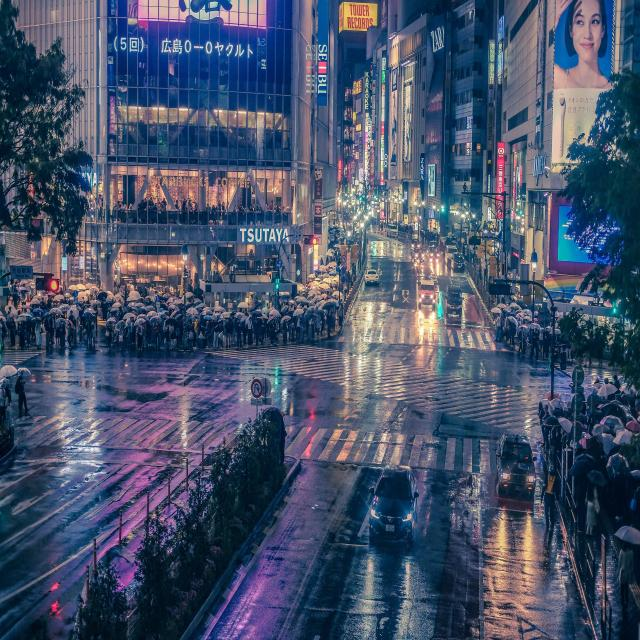body: (541, 375, 640, 560), (550, 0, 618, 177), (98, 281, 210, 350), (498, 308, 604, 368), (210, 298, 344, 333), (26, 288, 94, 344), (291, 265, 357, 298), (318, 222, 364, 266), (488, 269, 527, 308), (538, 463, 560, 532), (616, 540, 634, 608), (231, 199, 294, 214), (585, 481, 600, 538), (14, 369, 30, 414), (5, 280, 27, 310), (418, 222, 442, 249), (86, 190, 104, 222), (383, 218, 415, 236), (444, 230, 465, 254), (137, 197, 165, 213), (537, 401, 546, 447), (468, 247, 486, 270), (0, 380, 8, 429), (542, 404, 550, 453), (530, 328, 540, 360), (0, 379, 7, 424), (106, 196, 117, 223), (23, 316, 32, 347), (153, 317, 161, 351), (212, 316, 220, 350), (542, 327, 550, 359), (201, 320, 210, 348), (18, 320, 26, 351), (190, 318, 198, 349), (28, 310, 36, 340), (34, 319, 42, 349), (105, 320, 113, 350), (224, 318, 232, 348), (84, 316, 91, 349), (38, 297, 46, 325), (127, 316, 134, 348), (186, 315, 193, 347), (509, 321, 517, 349), (49, 313, 56, 344), (235, 318, 242, 349), (9, 317, 16, 347), (253, 316, 260, 346), (59, 320, 66, 349), (92, 303, 99, 332), (118, 322, 125, 351), (169, 321, 176, 350), (295, 314, 302, 343), (326, 309, 333, 338), (494, 313, 501, 342), (2, 389, 12, 409), (218, 320, 225, 348), (269, 318, 276, 346), (20, 290, 28, 314), (247, 316, 253, 347), (163, 325, 170, 351), (337, 302, 344, 328), (54, 314, 60, 344), (230, 316, 236, 346), (11, 281, 18, 306), (92, 290, 98, 318), (188, 322, 195, 346), (331, 303, 337, 331), (518, 327, 524, 355), (136, 325, 142, 352), (260, 318, 266, 345), (0, 318, 5, 350), (281, 318, 287, 344), (91, 316, 96, 347), (16, 309, 22, 334), (140, 322, 146, 347), (288, 301, 294, 326), (179, 317, 184, 346), (68, 310, 76, 328), (67, 321, 72, 349), (0, 323, 4, 356), (188, 203, 194, 225), (339, 299, 345, 321), (316, 313, 321, 338), (101, 296, 106, 320), (168, 284, 174, 304), (342, 210, 352, 222), (249, 249, 254, 272), (369, 216, 377, 230), (150, 284, 156, 302), (118, 201, 127, 213), (182, 196, 189, 211), (276, 316, 280, 342), (218, 200, 222, 226), (48, 317, 52, 343), (187, 197, 195, 210), (342, 285, 348, 302), (47, 294, 53, 310), (188, 281, 194, 297), (183, 204, 188, 223), (30, 288, 34, 308), (291, 324, 295, 343), (44, 318, 49, 332), (115, 200, 122, 210), (329, 282, 334, 296), (479, 264, 482, 287), (59, 287, 63, 303), (340, 280, 344, 296), (334, 248, 338, 264), (21, 283, 26, 295), (148, 197, 154, 207), (476, 270, 480, 285), (222, 201, 226, 215), (442, 246, 446, 260), (464, 246, 468, 260), (244, 308, 250, 317), (128, 203, 133, 213), (319, 256, 324, 266), (325, 256, 330, 266), (190, 278, 194, 290), (161, 198, 167, 206), (332, 283, 337, 292), (99, 194, 102, 208), (132, 316, 136, 326), (281, 301, 286, 309), (175, 200, 179, 210), (194, 202, 198, 212), (206, 203, 211, 211), (212, 204, 216, 214), (412, 224, 415, 237), (443, 238, 446, 250), (516, 290, 520, 299), (409, 224, 412, 235), (8, 306, 12, 314), (380, 222, 382, 232), (382, 223, 384, 232), (375, 218, 377, 226)
